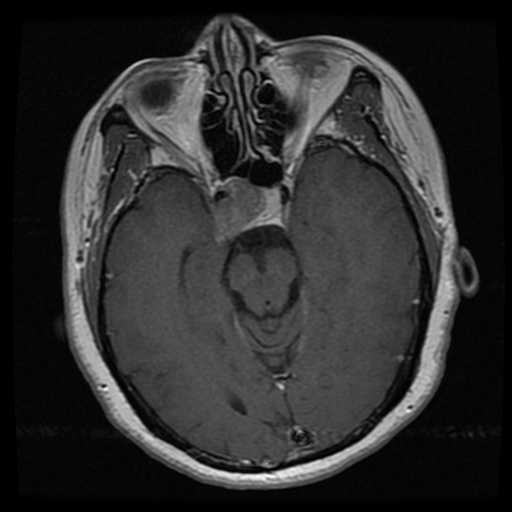pituitary: (217, 180, 283, 229)
